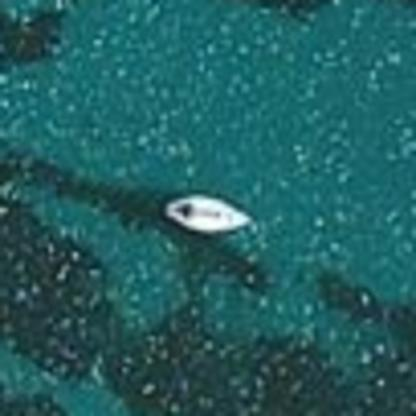ship: (151, 185, 260, 242)
